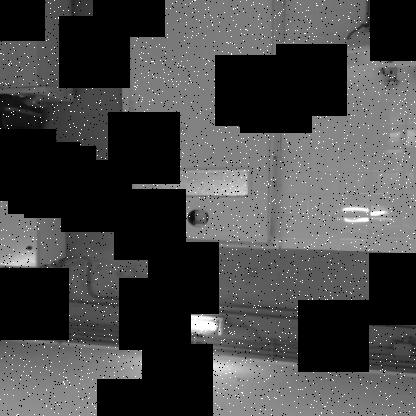Porte: (118, 0, 288, 252)
